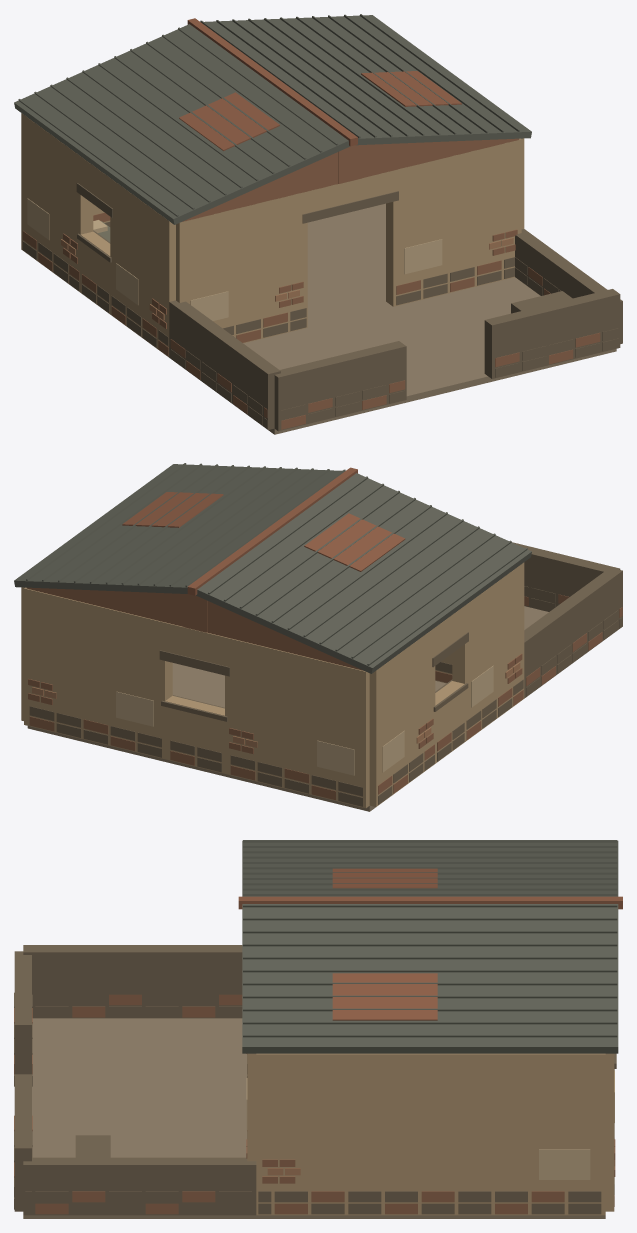
File: FSA_ENV_Abandoned_House_04_Courtyard.glb
3 renders of one model, top to bottom at view 1: azimuth 30°, elevation 25°; view 2: azimuth 150°, elevation 25°; view 3: azimuth 270°, elevation 25°, orthographic. The views are drawn at different scales.
Visible parts, largest first — view 1: Roof_Left, Roof_Right, Courtyard, FrontHouseRight, FrontHouseLeft, Floor, WestRight, WestLeft, YardEntryRight, YardEntryLeft, YardWest, RoofPatch_246 (+28 smaller); view 2: Roof_Left, Roof_Right, BackLeft, BackRight, WestLeft, WestRight, YardWest, Floor, RoofPatch_246, YardEntryLeft, BackSill, RoofPatch_258 (+33 smaller); view 3: East, Roof_Right, Courtyard, Roof_Left, YardWest, YardEast, RoofPatch_258, Roof_Ridge, RoofPatch_246, YardEntryLeft, YardEntryRight, Repair_180 (+26 smaller).
Part boxes in pixels (x1,y1,x2,y2): Roof_Left: (14,24,349,224); Roof_Right: (204,15,531,145); Courtyard: (243,277,616,434); FrontHouseRight: (386,138,521,306); FrontHouseLeft: (176,191,307,343); Floor: (307,203,389,323); WestRight: (110,178,175,357); WestLeft: (21,113,93,292); YardEntryRight: (484,289,620,378); YardEntryLeft: (274,341,406,431); YardWest: (169,300,280,429); RoofPatch_246: (179,92,279,150); Roof_Left: (196,473,531,673); Roof_Right: (14,464,341,593); BackLeft: (225,637,369,808); BackRight: (24,587,172,759); WestLeft: (369,627,435,806); WestRight: (452,562,524,741); YardWest: (524,567,622,698); Floor: (27,663,446,811); RoofPatch_246: (304,513,405,571); YardEntryLeft: (512,542,620,611); BackSill: (165,695,224,773); RoofPatch_258: (122,492,223,527); East: (256,1053,605,1215); Roof_Right: (242,904,618,1053); Courtyard: (23,1018,256,1218); Roof_Left: (242,840,618,896); YardWest: (23,945,242,1018); YardEast: (23,1157,256,1215); RoofPatch_258: (332,973,437,1020); Roof_Ridge: (238,896,622,909); RoofPatch_246: (332,868,437,888); YardEntryLeft: (14,951,31,1074); YardEntryRight: (14,1074,31,1211); Repair_180: (539,1149,590,1179).
Size of the model in its own units: 8.39 by 4.2 by 10.46.
